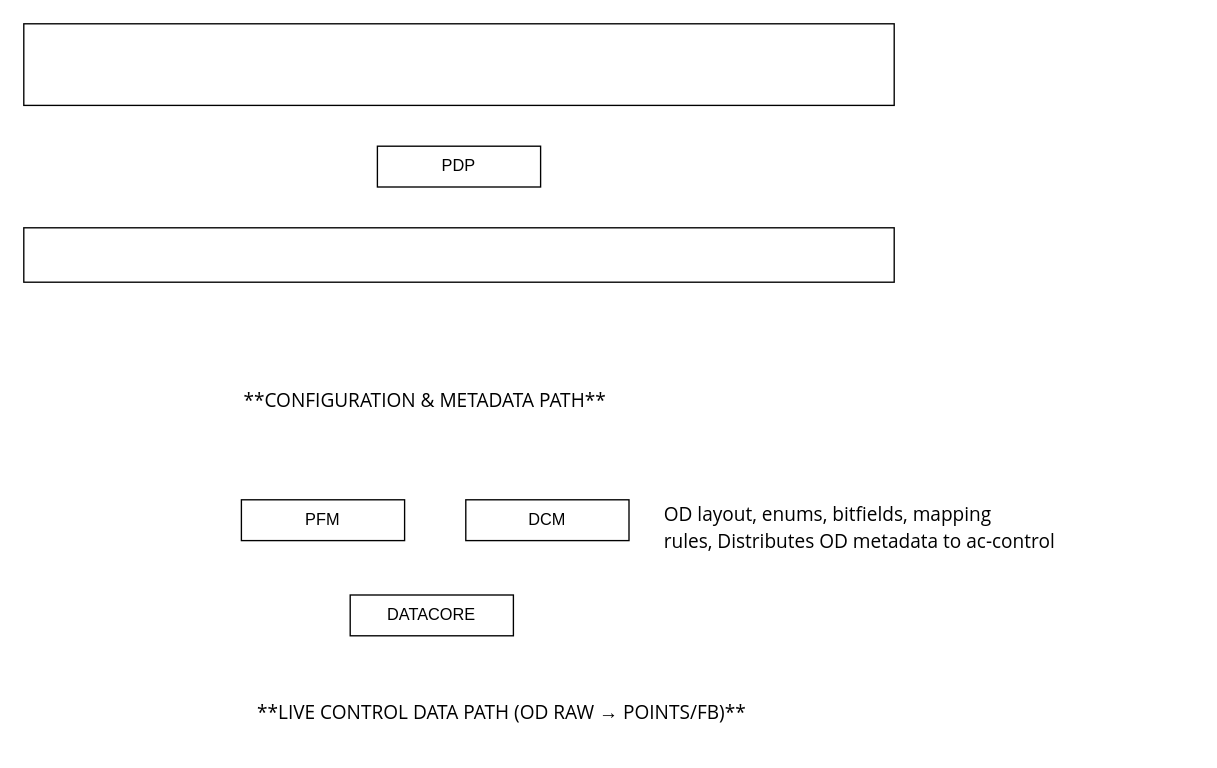
This 1217x768 diagram has some shape labels left out. Each missing label, with the centre of its shape:
"AIRBASE ( Cloud: Licenses, Auth, Config)" goes at pixel 458 63.
"MK6 (iMX9 Linux + STM32 Control Core)" goes at pixel 458 254.
